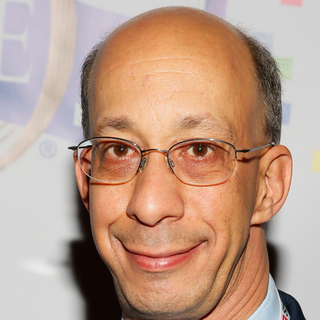eye: (97, 138, 141, 164), (174, 140, 225, 162)
